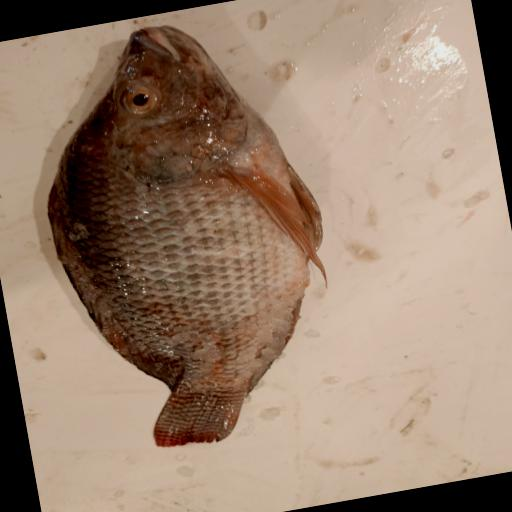Tilapia: (19, 3, 357, 465)
